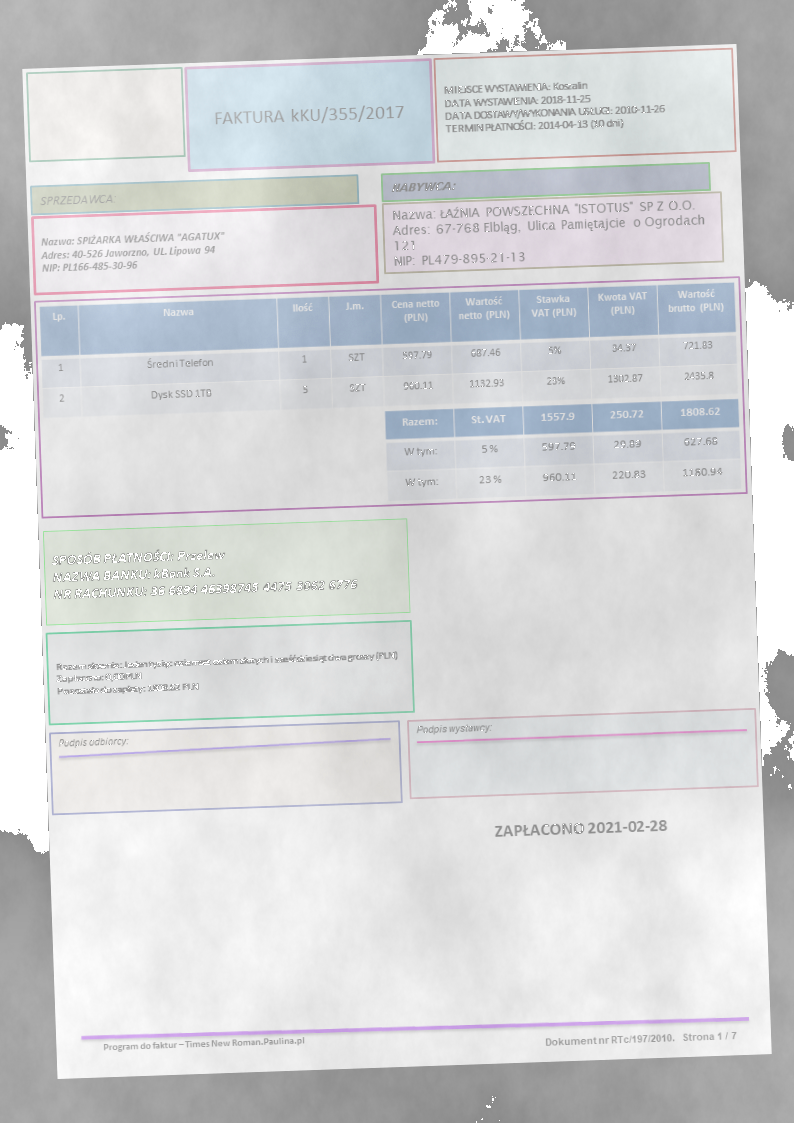Table: (38, 281, 739, 419), (384, 397, 744, 503)
TextBox: (388, 195, 707, 269), (48, 537, 359, 606), (54, 646, 403, 699), (441, 73, 666, 137), (38, 228, 227, 275), (212, 101, 406, 130), (99, 1033, 308, 1055), (493, 815, 669, 840), (543, 1027, 742, 1049), (36, 188, 118, 209), (414, 720, 495, 739), (55, 732, 130, 751), (389, 176, 458, 196)
